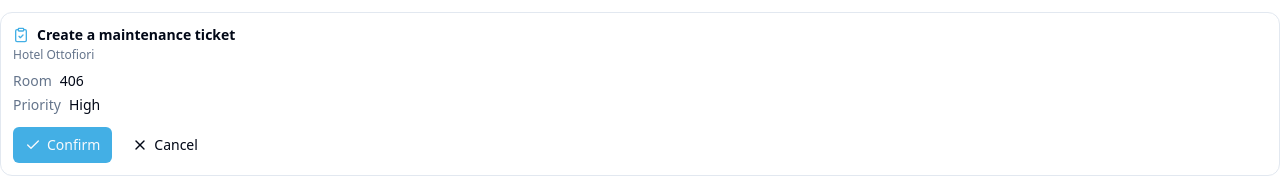
ActionConfirmCard › confirms with the proposal's action and shows the result
Click the button "Confirm" at (63, 145), box top-left (13, 127), bottom-right (112, 163)
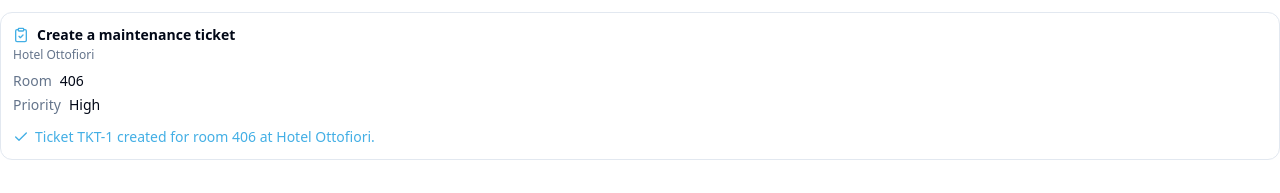
expect the text "Ticket TKT-1 created for room 406 at Hotel Ottofiori." is shown: met, box top-left (13, 127), bottom-right (375, 146)
